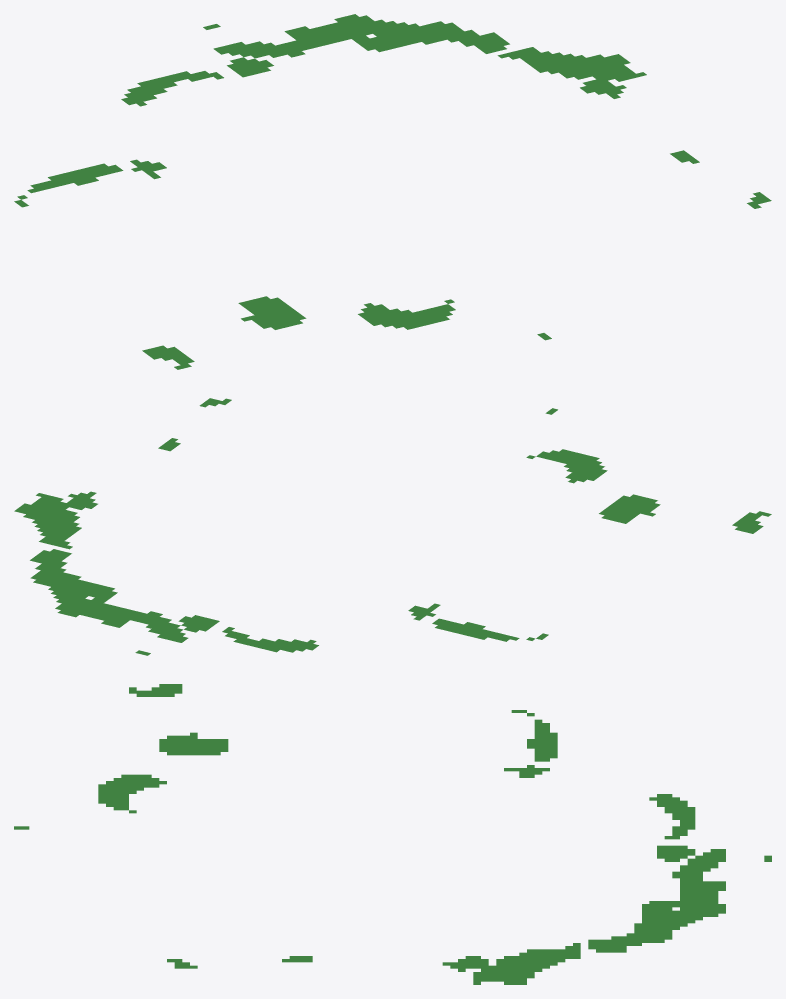
Rendered from Isl-hilly5-TreesArea.fbx.
3 renders of one model, top to bottom at view 1: azimuth 30°, elevation 25°; view 2: azimuth 150°, elevation 25°; view 3: azimuth 270°, elevation 25°, orthographic. The views are drawn at different scales.
Parts seen in each view (by area): view 1: Isl-hilly5-TreesArea; view 2: Isl-hilly5-TreesArea; view 3: Isl-hilly5-TreesArea.
Part boxes in pixels (<box>): Isl-hilly5-TreesArea: <box>14,14,771,369</box>; Isl-hilly5-TreesArea: <box>14,398,771,655</box>; Isl-hilly5-TreesArea: <box>14,684,771,984</box>.
Size of the model in its own units: 93 by 0 by 99.
